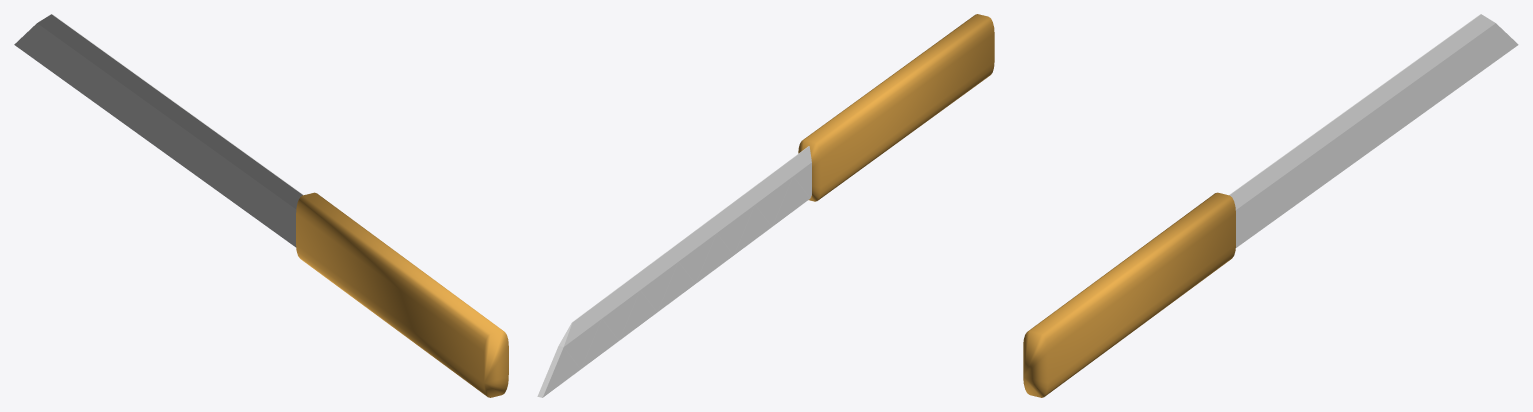
Rendered from gun_2_5.fbx.
3 renders of one model, left to right at view 1: azimuth 30°, elevation 25°; view 2: azimuth 150°, elevation 25°; view 3: azimuth 330°, elevation 25°, orthographic. The views are drawn at different scales.
Visible parts, largest first — view 1: gun_2_5; view 2: gun_2_5; view 3: gun_2_5.
Part boxes in pixels (x1,y1,x2,y2): gun_2_5: (14, 14, 508, 397); gun_2_5: (537, 14, 994, 397); gun_2_5: (1023, 14, 1518, 397).
Size of the model in its own units: 127 by 318 by 4265.
